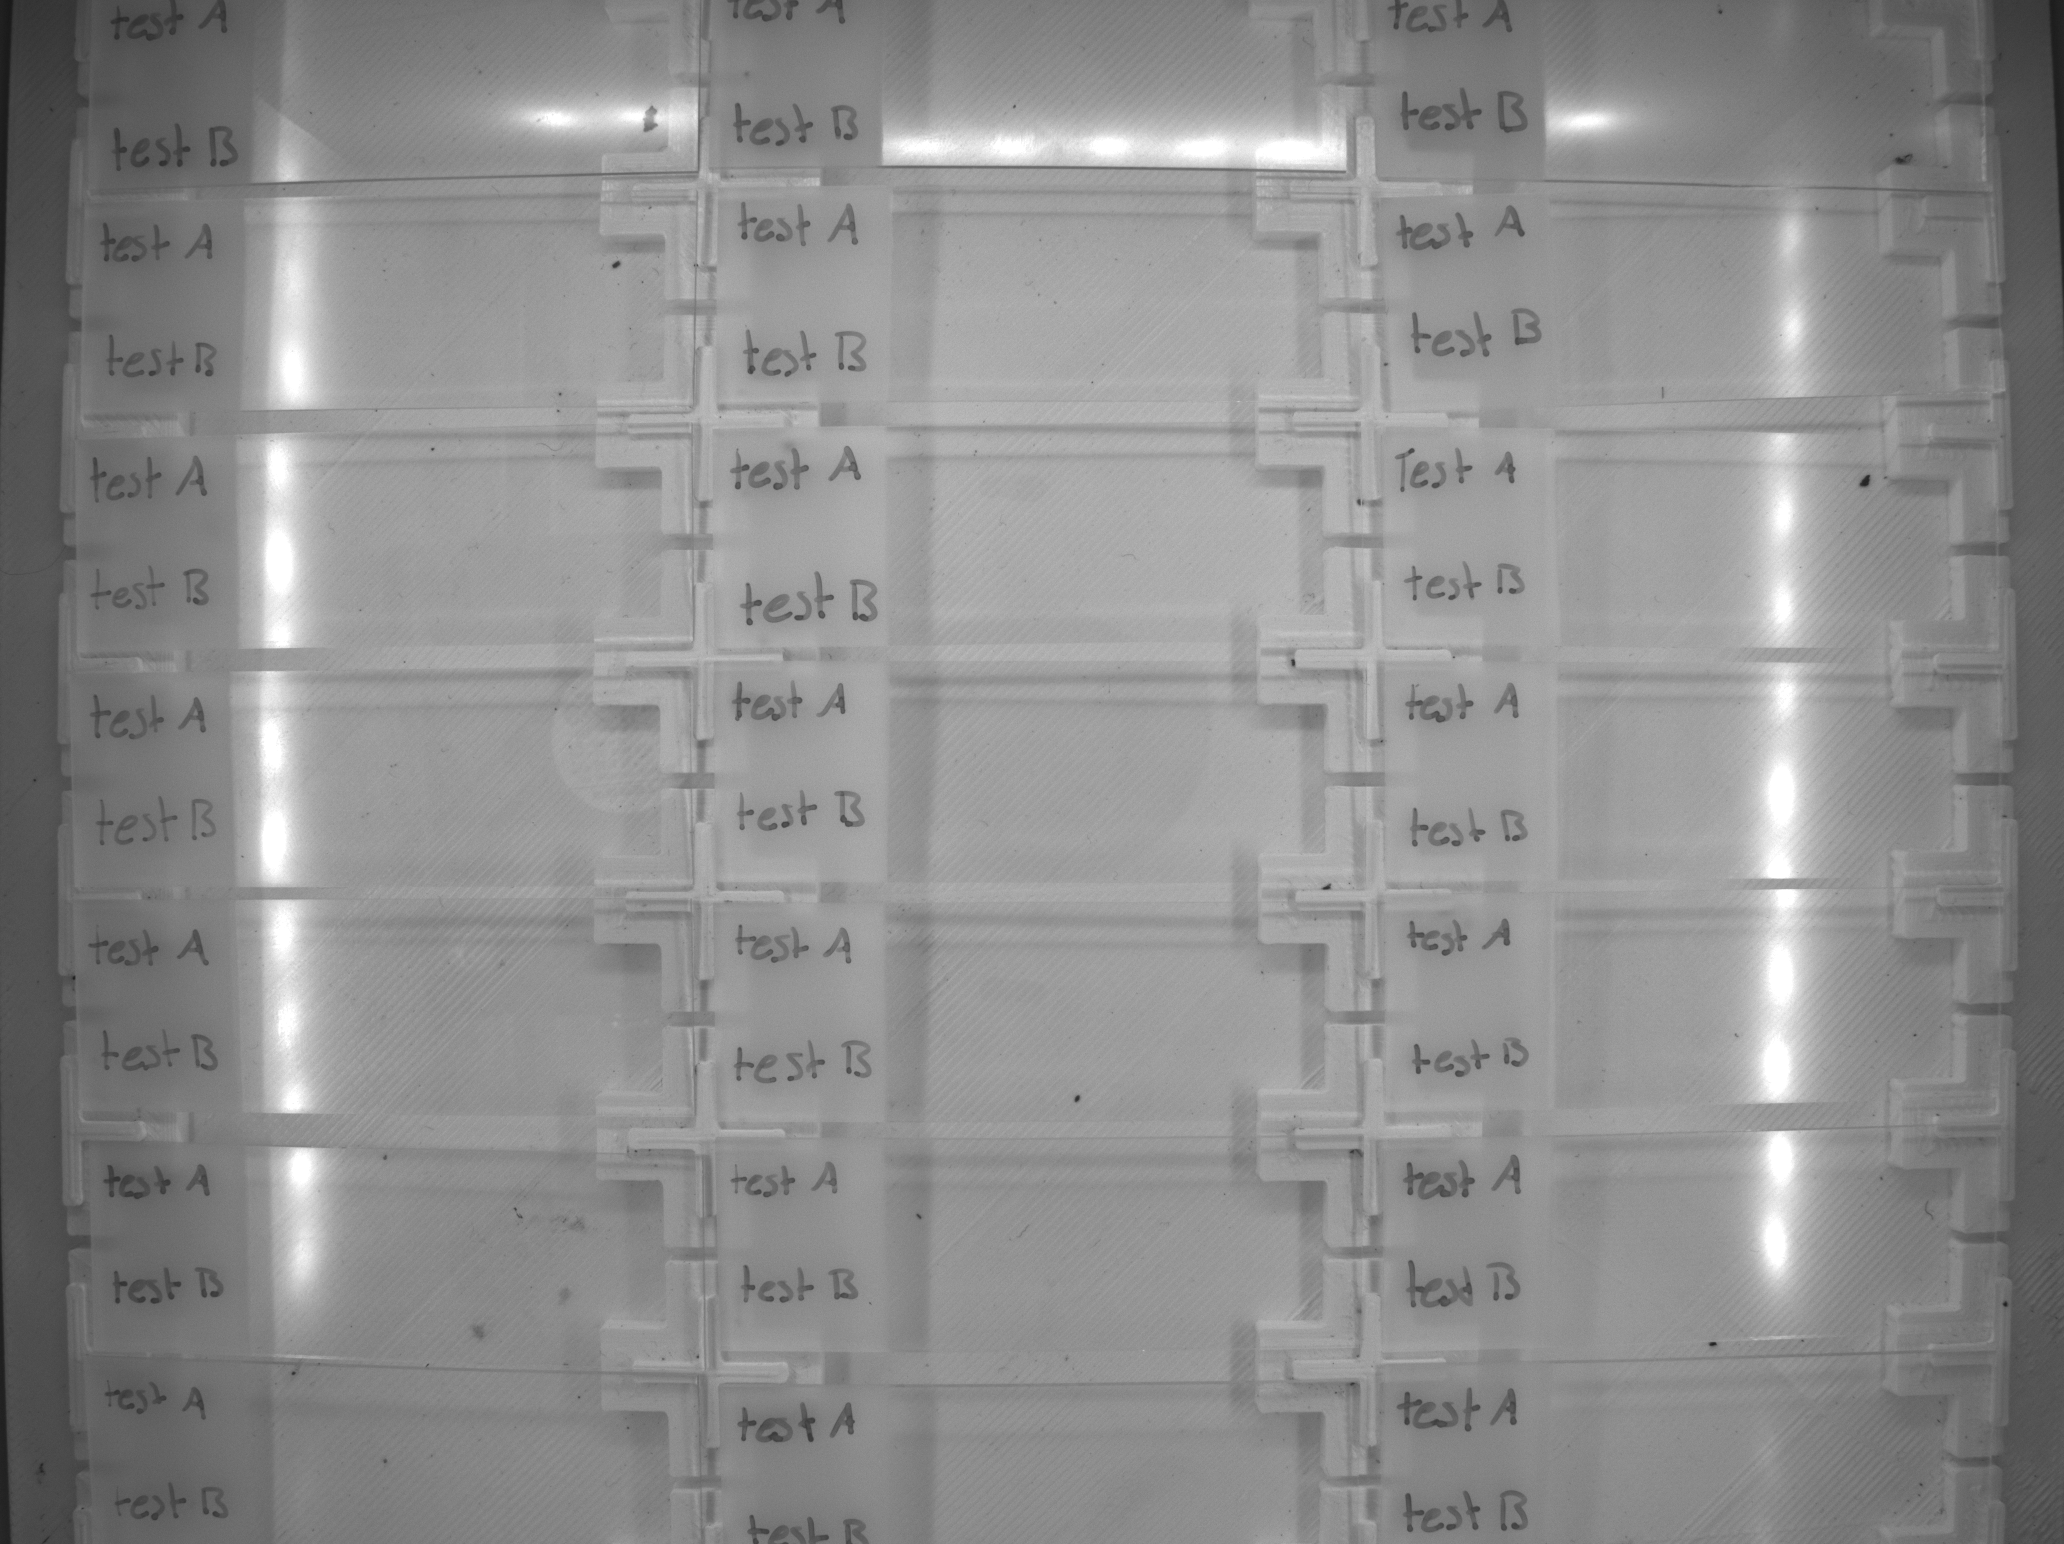text: (1375, 430, 1557, 647), (1373, 195, 1552, 410), (712, 668, 889, 886), (73, 431, 242, 650), (715, 431, 887, 644), (717, 1140, 889, 1349), (718, 910, 890, 1117), (1388, 671, 1558, 879), (725, 190, 890, 402), (1386, 902, 1550, 1109), (88, 1145, 245, 1356), (88, 201, 243, 414), (1383, 1145, 1547, 1343), (75, 676, 230, 884), (81, 908, 240, 1111)
text2: (86, 199, 242, 307), (88, 313, 243, 414)
varroa: (709, 665, 1362, 890), (712, 427, 1359, 649), (1370, 191, 1991, 418), (713, 1137, 1362, 1354), (713, 907, 1365, 1122), (71, 428, 694, 654), (1372, 428, 1999, 650), (720, 187, 1355, 405), (83, 198, 696, 417), (1381, 899, 2002, 1114), (71, 673, 694, 887), (83, 1142, 696, 1359), (1385, 667, 1996, 882), (76, 905, 692, 1116), (1380, 1140, 1994, 1348)
